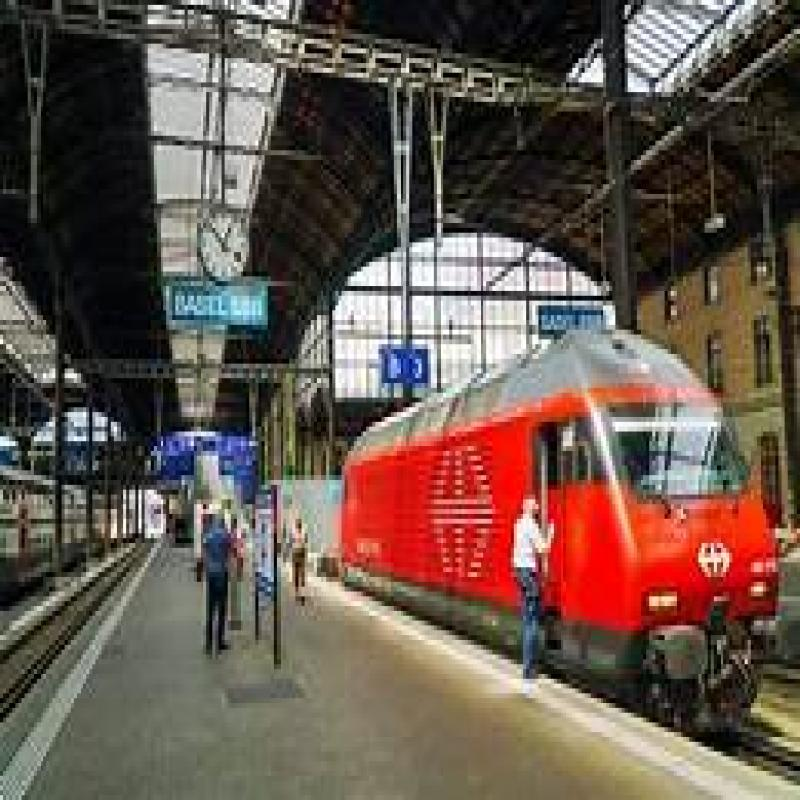train: (315, 380, 730, 724)
